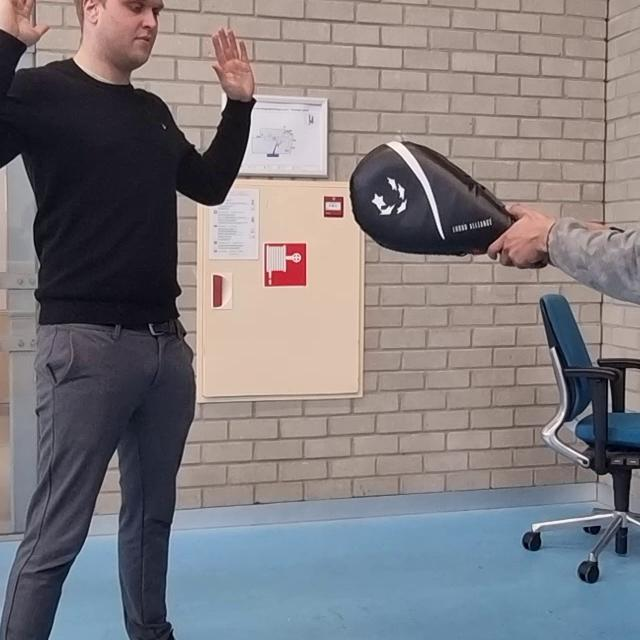paddle: (350, 140, 522, 254)
